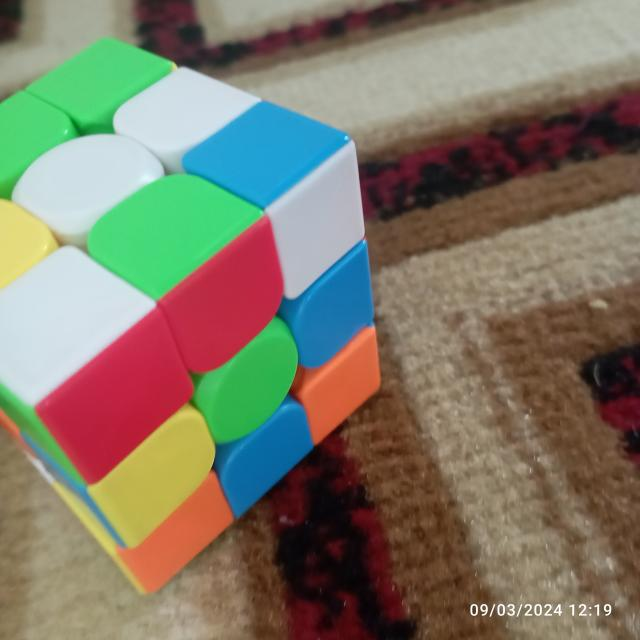Rub: (3, 35, 383, 595)
